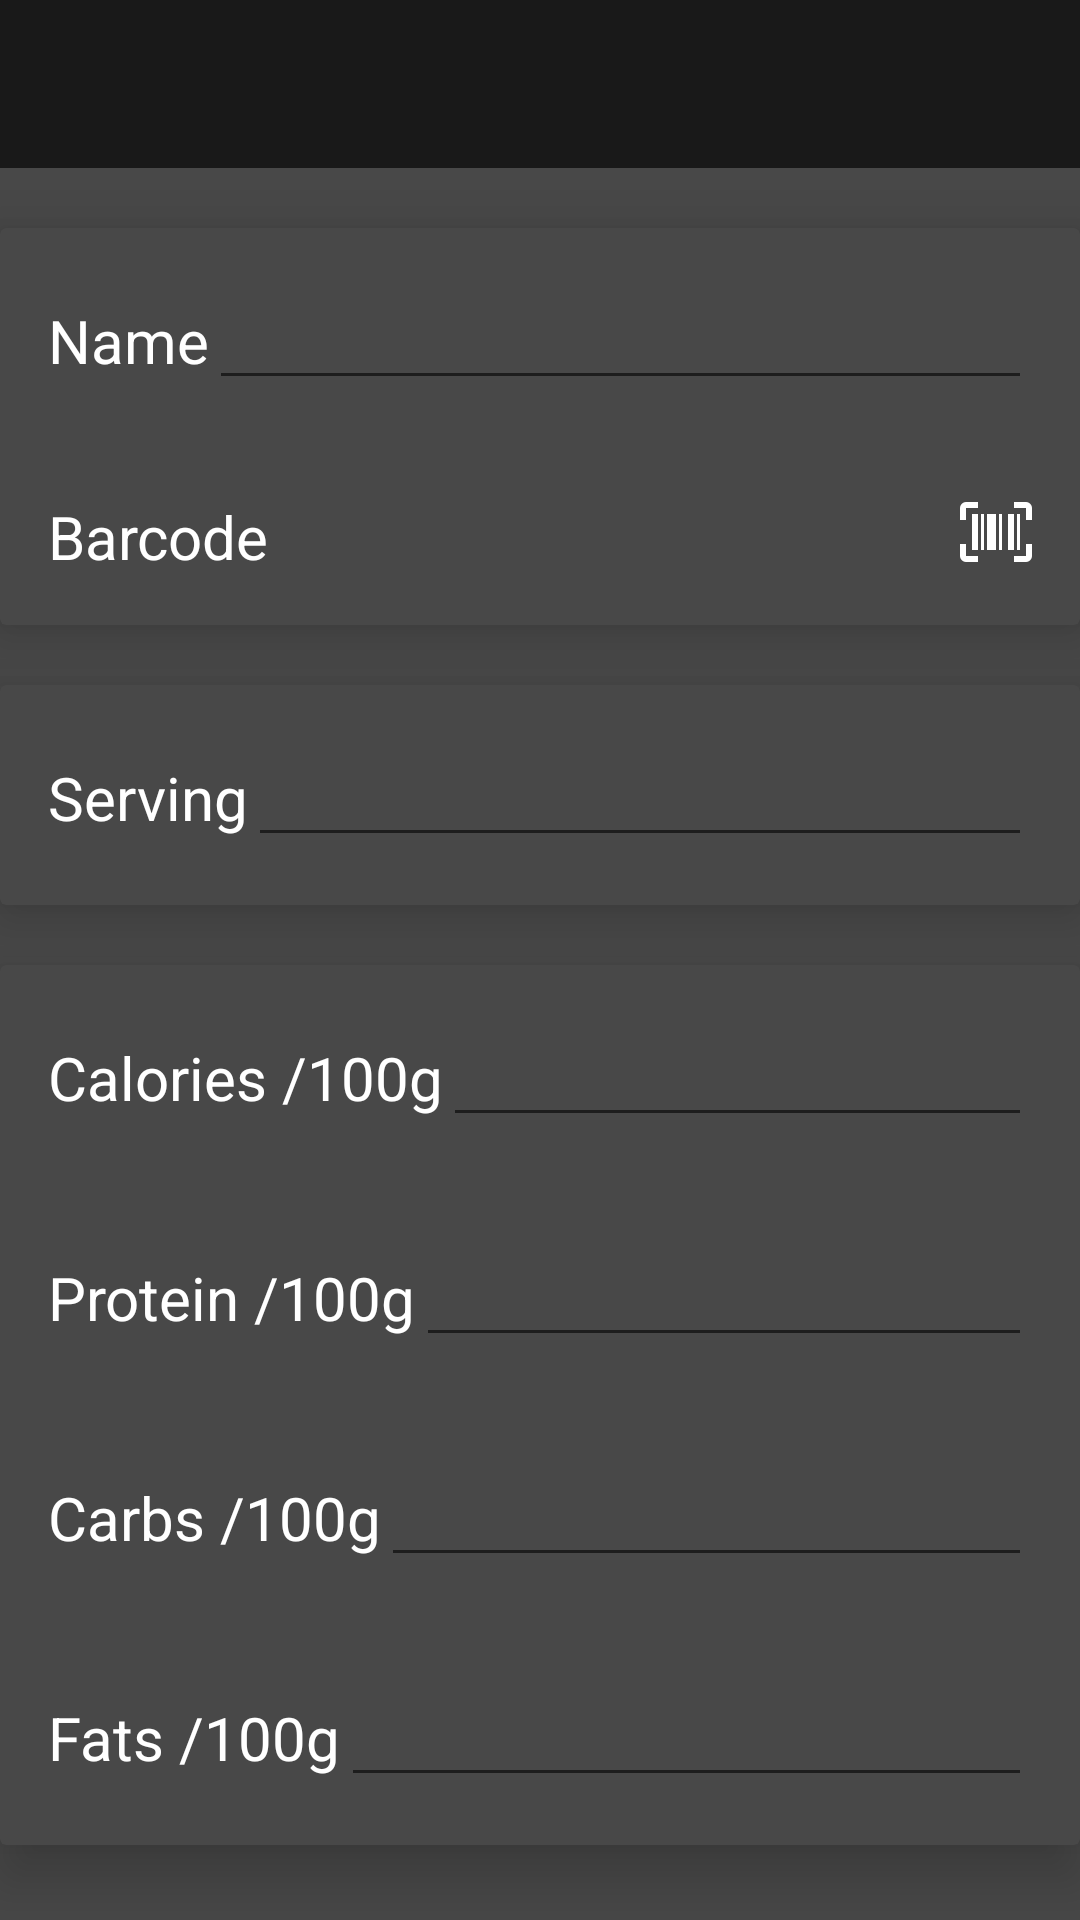

Named icons in this screenshot (1080w x 1920h) and their centers, point (x, y):
barcode scanner: point (996, 532)
